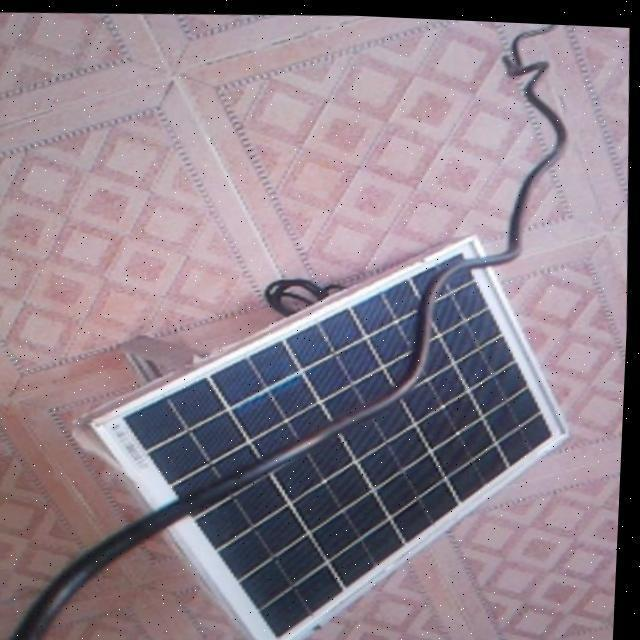Normal Solar Panel: (82, 216, 590, 640)
